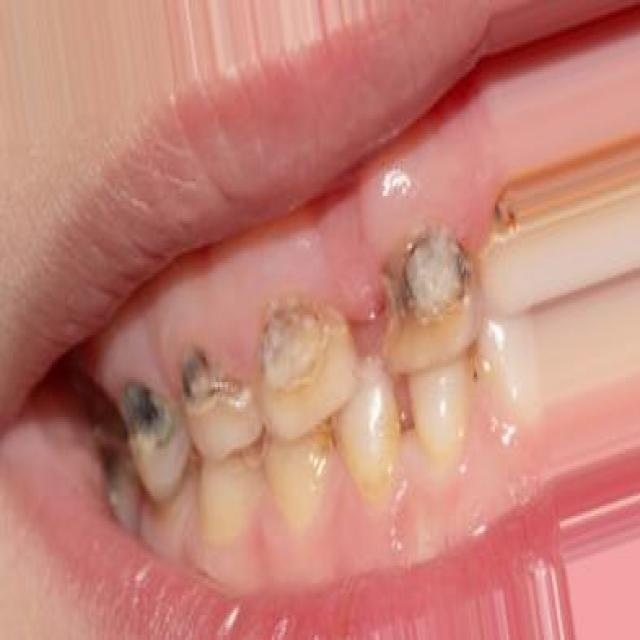caries: (384, 216, 474, 350), (251, 292, 346, 401), (176, 338, 260, 441), (114, 355, 183, 466)
